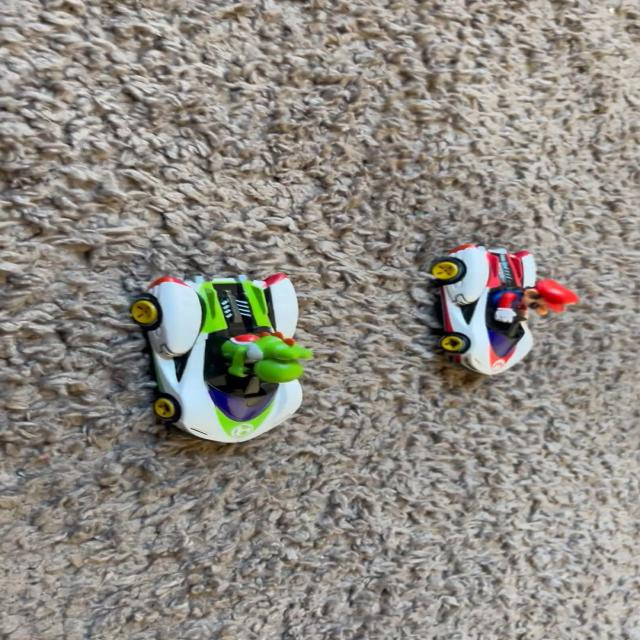mario: (428, 231, 584, 394)
yoshi: (123, 251, 328, 463)
